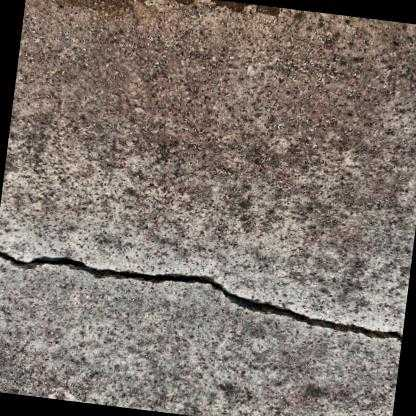crack: (0, 250, 402, 344)
